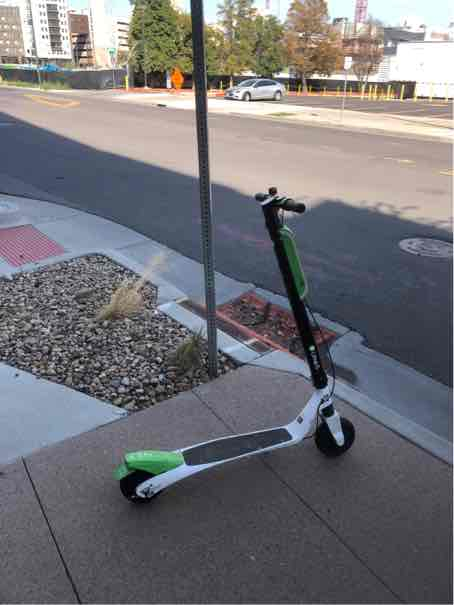scooter: (111, 179, 357, 519)
